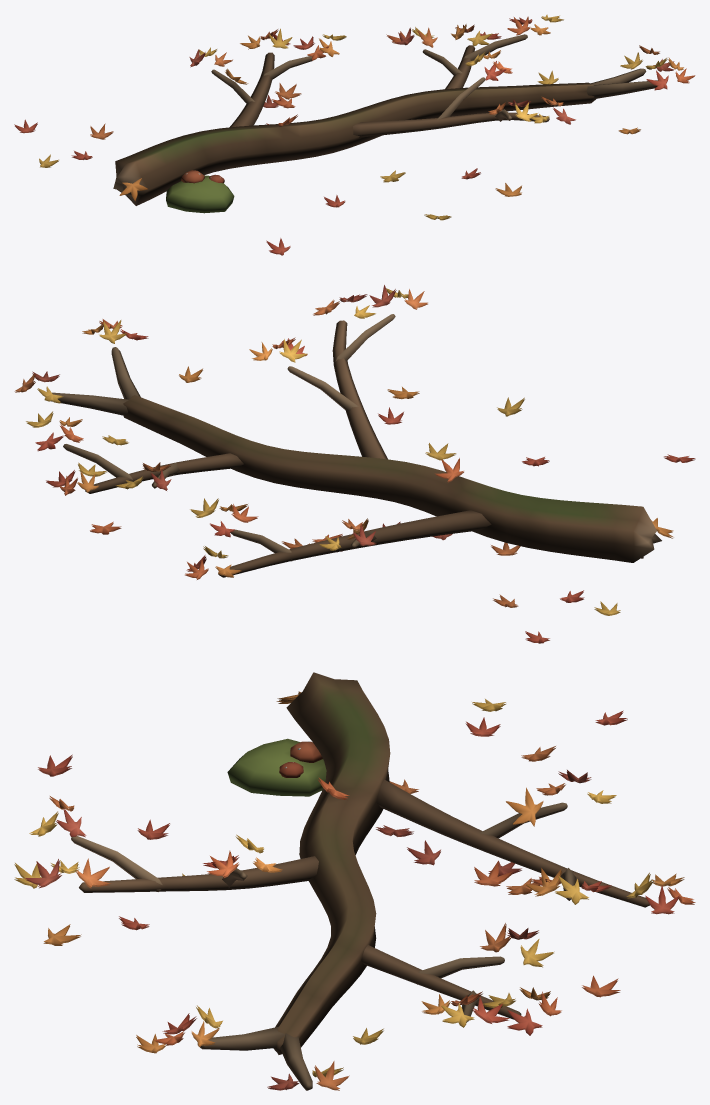
Rendered from dg-maple-fallenBranch-v0.glb.
3 views of the same model, one above another, from view 1: azimuth 30°, elevation 25°; view 2: azimuth 150°, elevation 25°; view 3: azimuth 270°, elevation 25° (orthographic). The views are drawn at different scales.
Parts seen in each view (by area): view 1: body, leaf, stone; view 2: body, leaf; view 3: body, leaf, stone.
Part boxes in pixels (<box>): body: <box>113,34,658,205</box>; leaf: <box>14,14,695,255</box>; stone: <box>166,175,234,213</box>; body: <box>51,314,661,577</box>; leaf: <box>14,285,695,643</box>; body: <box>71,672,649,1090</box>; leaf: <box>14,691,695,1090</box>; stone: <box>227,738,326,796</box>.
Bounding box in the file's own units: 3.23 × 0.5317 × 2.26.
